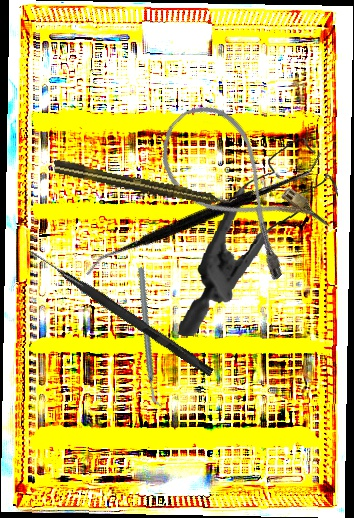Cannula: (141, 90, 336, 286)
Chopper: (99, 266, 201, 409)
Handpiece: (51, 157, 238, 213)
Hook Surgical: (25, 247, 216, 377)
Spatula Surgical: (84, 81, 323, 346)
Speculum: (178, 128, 343, 349)
